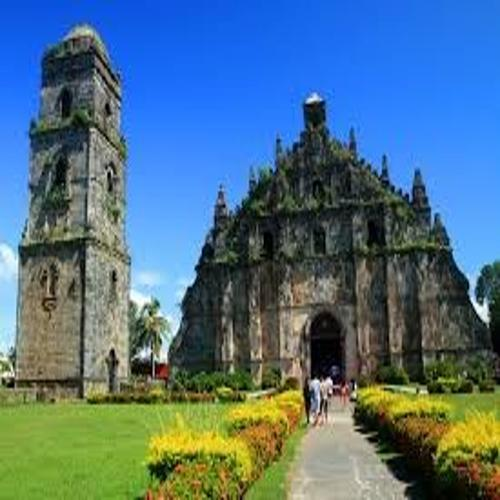Paoay Church: (13, 19, 490, 399)
